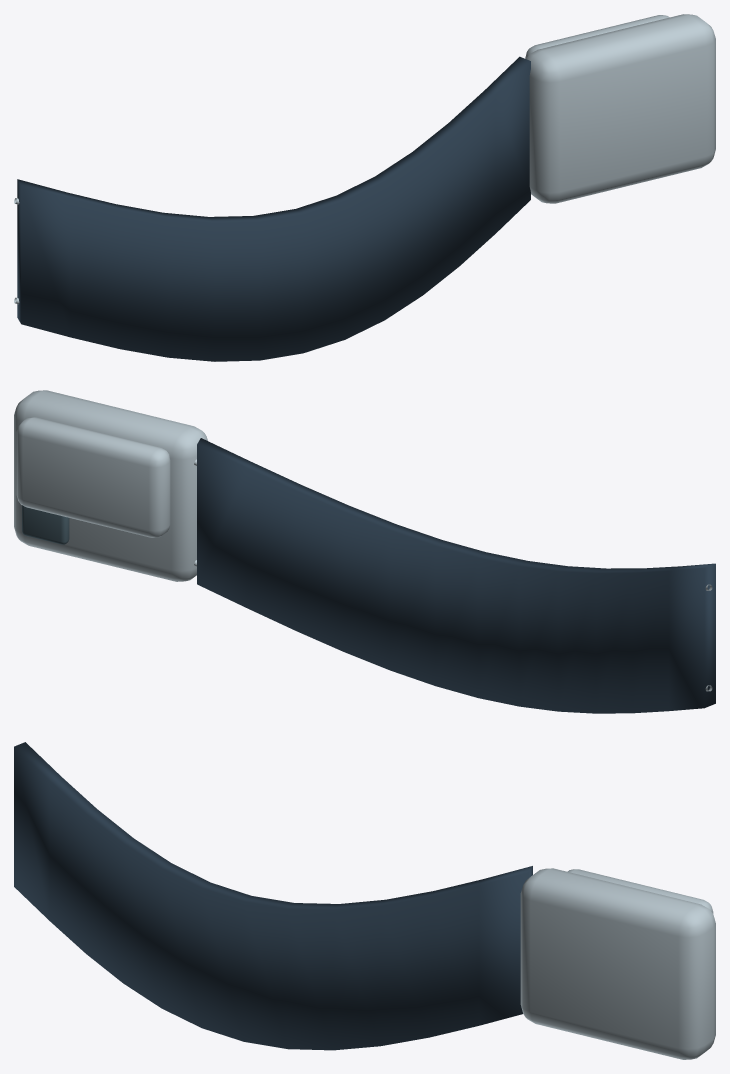
File: belt-left.glb
The picture shows the model from 3 angles, top to bottom: view 1: azimuth 30°, elevation 25°; view 2: azimuth 150°, elevation 25°; view 3: azimuth 330°, elevation 25°; orthographic projection.
Parts seen in each view (by area): view 1: belt-left; view 2: belt-left; view 3: belt-left.
Part boxes in pixels (left/top/right/bottom): belt-left: left=14, top=14, right=715, bottom=361; belt-left: left=14, top=390, right=715, bottom=713; belt-left: left=14, top=742, right=715, bottom=1059.
Bounding box in the file's own units: 0.2029 × 0.06 × 0.027.
